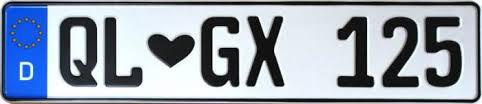1: (333, 13, 378, 90)
2: (379, 14, 422, 89)
5: (423, 12, 465, 87)
G: (198, 15, 242, 90)
L: (102, 13, 144, 89)
Q: (56, 14, 100, 90)
X: (244, 13, 288, 89)
